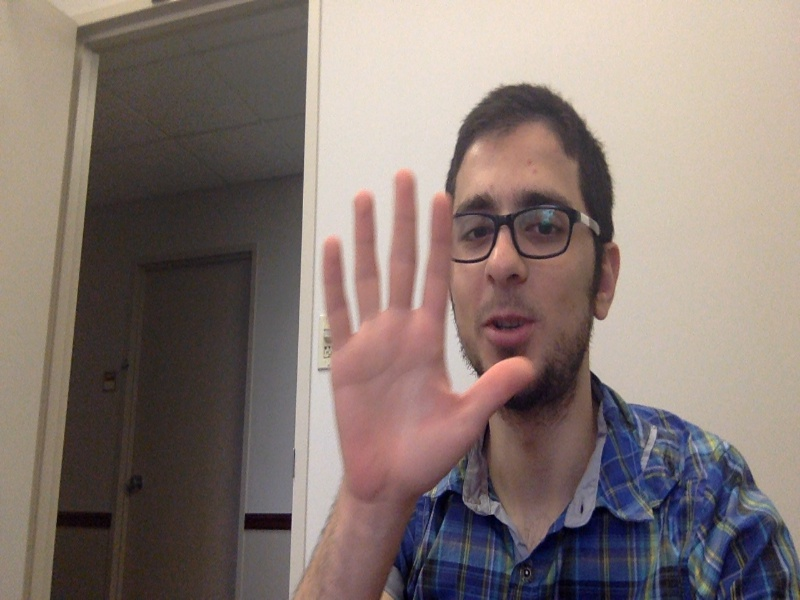5-hand: (320, 169, 537, 516)
